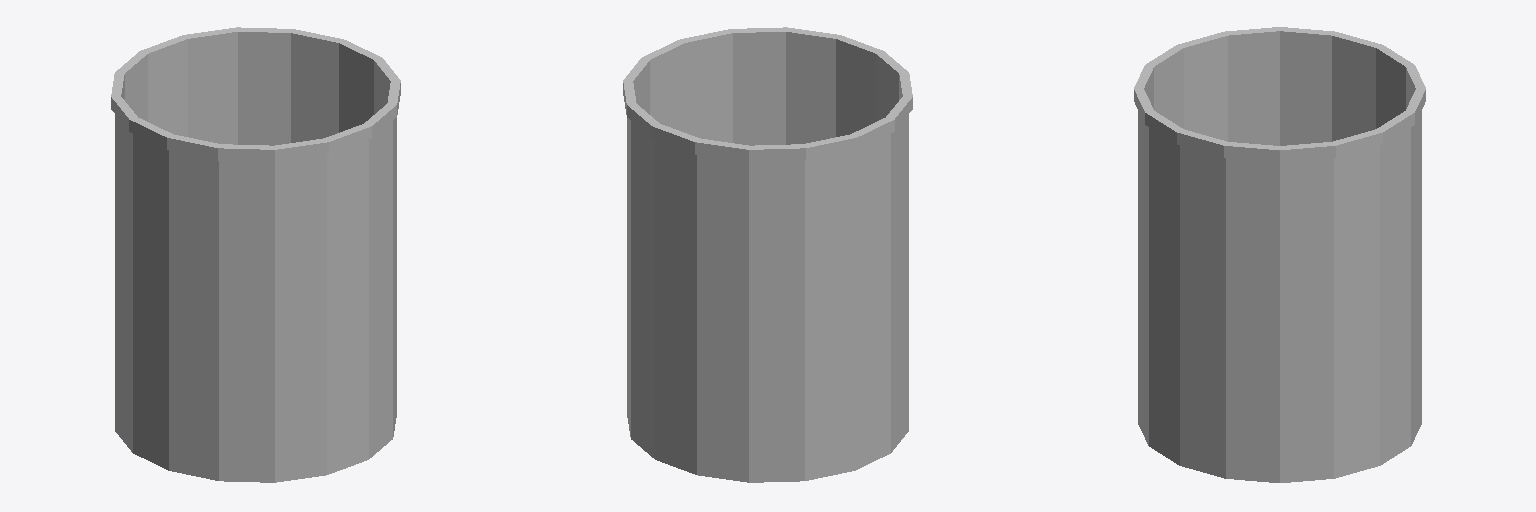
File: stationary_cup.obj
The picture shows the model from 3 angles: view 1: azimuth 30°, elevation 25°; view 2: azimuth 150°, elevation 25°; view 3: azimuth 270°, elevation 25°; orthographic projection.
Parts seen in each view (by area): view 1: Cylinder; view 2: Cylinder; view 3: Cylinder.
Boxes of the visible parts, box(x1,y1,x2,y2) form: Cylinder: box(111, 27, 400, 482); Cylinder: box(623, 27, 912, 482); Cylinder: box(1134, 27, 1425, 482).
Bounding box in the file's own units: 8.2 × 10.36 × 8.2.